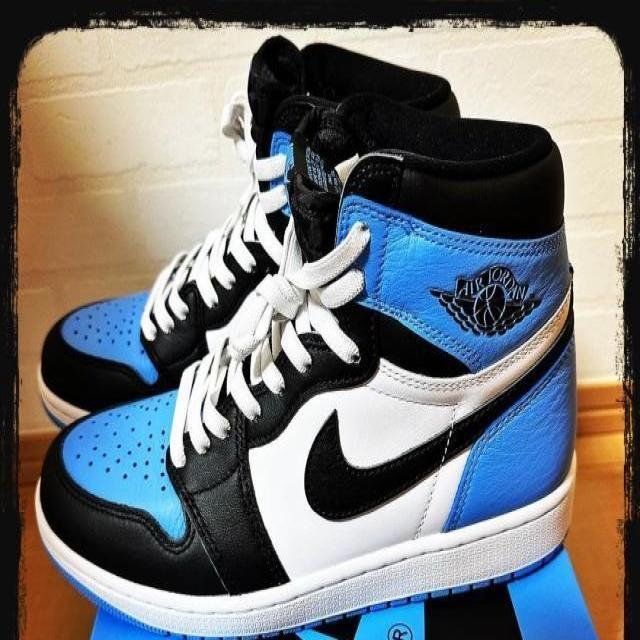J1_MateComp: (33, 100, 580, 635), (36, 35, 460, 431)
J1_ShoeLogo: (428, 262, 542, 337), (386, 621, 413, 639)
J1_StitchPattern: (163, 97, 368, 594), (166, 217, 373, 467), (139, 146, 294, 343), (169, 460, 238, 596), (168, 350, 233, 461), (140, 244, 203, 342)
